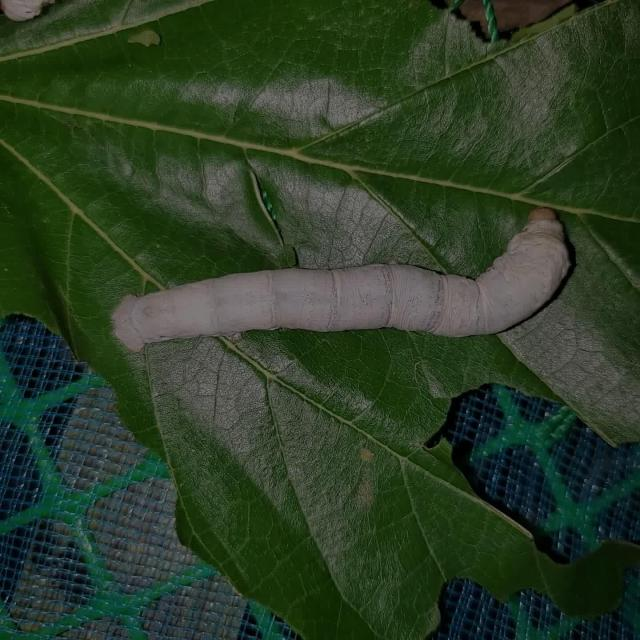Healthy: (56, 184, 610, 386)
